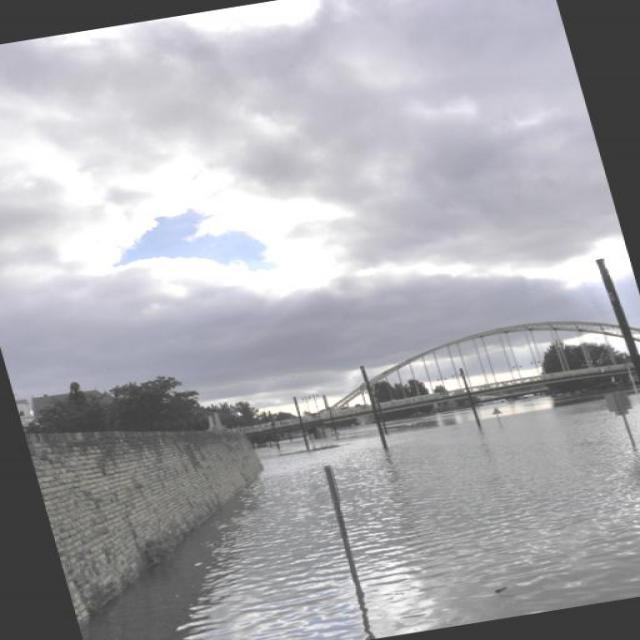flood: (35, 369, 639, 639)
